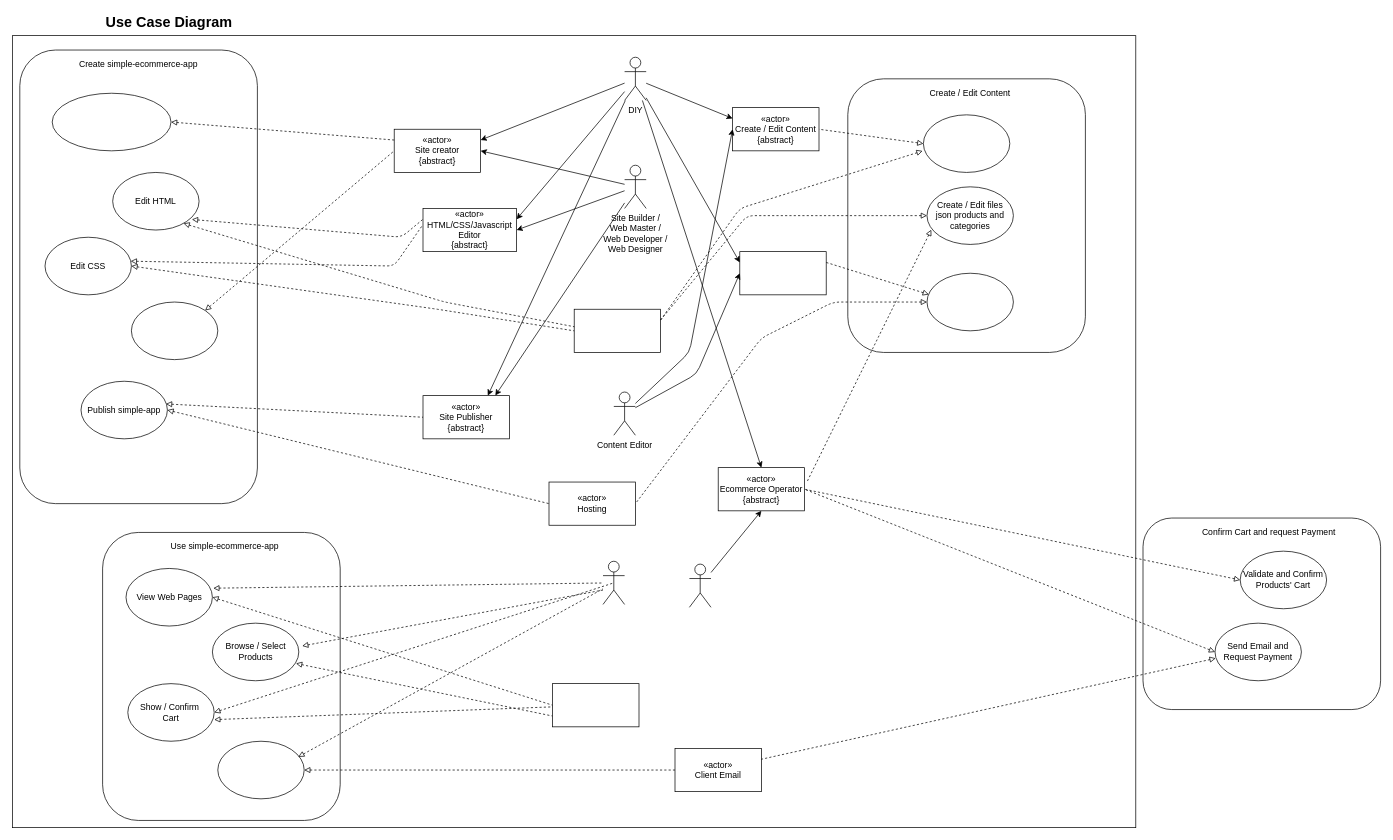
Some shapes in this 1393 by 840 pixel diagram are drawn without their labels. Here are the shapes that lost their labels. From the top down, the centre of each, then its label:
point 111,122: Git clone repo simple-ecommerce-app
point 966,143: Create / Edit files (markdown or json)
point 782,273: «actor» Publish Content {abstract}
point 969,302: Download / Publish content files
point 174,330: Add/remove pages
point 617,330: «actor» Text Editor
point 613,582: Final user
point 700,585: Ecommerce Manager
point 595,705: «actor» Browser
point 260,770: Send prepared email
